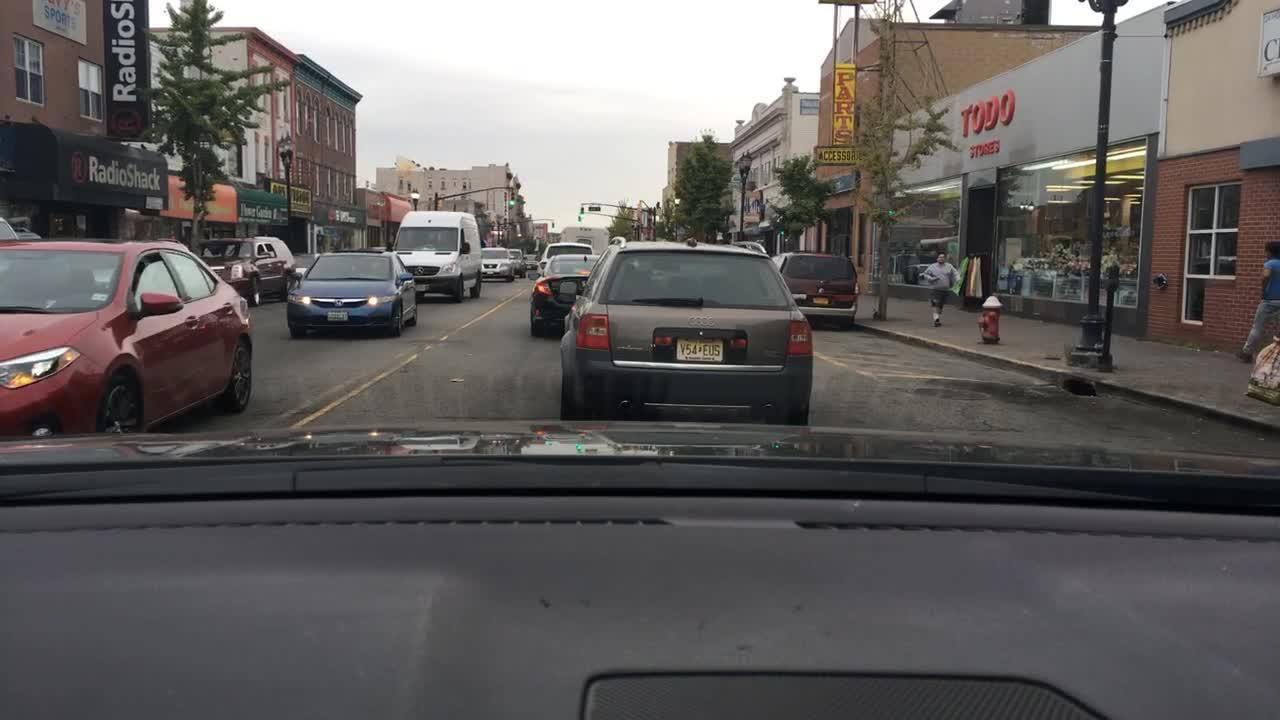Audi: (685, 311, 728, 332)
